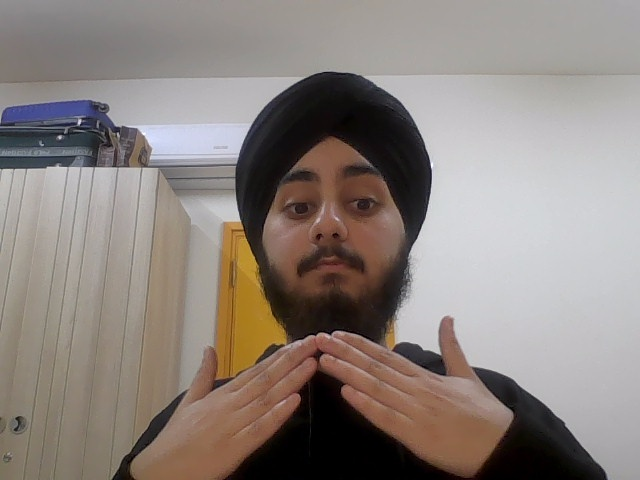Thanks: (133, 316, 524, 480)
